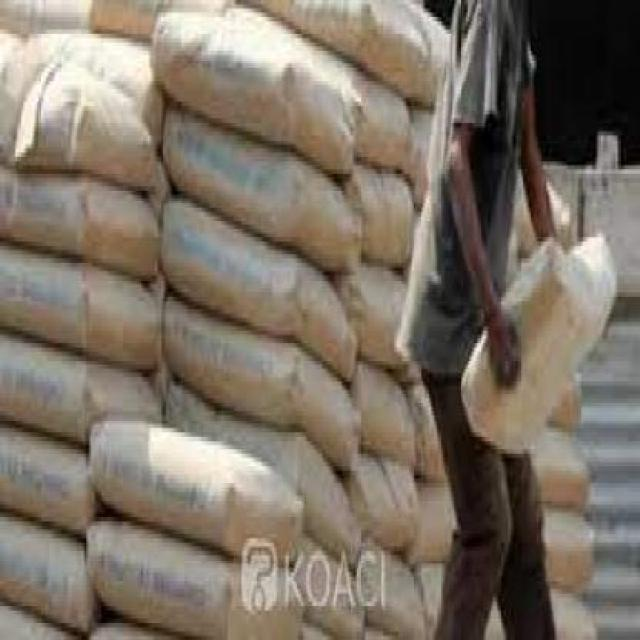gunny_bag: (159, 190, 295, 339), (160, 102, 290, 248), (165, 287, 295, 431), (97, 417, 231, 553), (165, 366, 297, 500), (92, 515, 230, 637), (152, 19, 291, 139), (0, 515, 90, 631), (0, 422, 87, 539), (0, 334, 87, 449), (357, 5, 451, 107), (2, 244, 86, 356), (0, 70, 86, 176), (0, 158, 84, 261), (290, 532, 367, 640), (356, 531, 427, 640), (351, 356, 418, 470), (346, 158, 412, 271), (350, 449, 424, 546), (355, 78, 409, 178), (353, 263, 406, 361), (545, 505, 598, 595), (550, 225, 619, 293), (543, 424, 586, 502), (1, 0, 92, 36), (550, 585, 599, 634)
